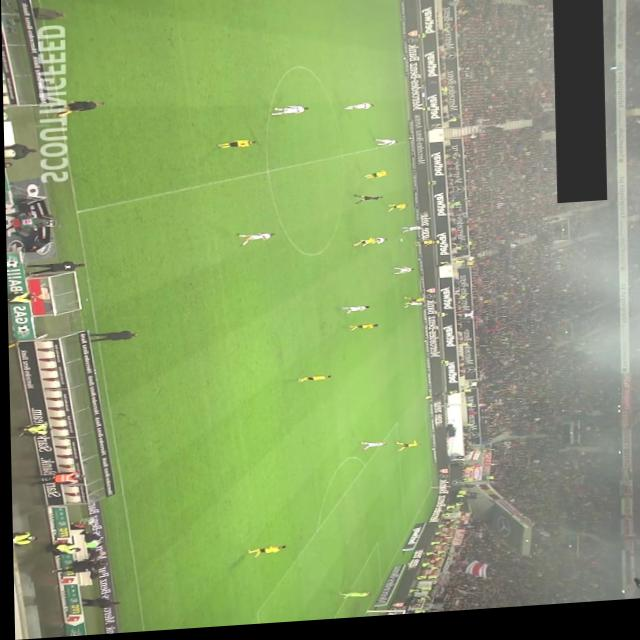goalkeeper: (335, 595, 369, 604)
player: (234, 235, 275, 250), (244, 548, 284, 561), (270, 108, 309, 120), (215, 142, 256, 152), (392, 445, 420, 457), (357, 444, 385, 456), (350, 242, 378, 252), (294, 379, 329, 387), (360, 242, 388, 252), (343, 107, 373, 116), (361, 175, 390, 184), (340, 310, 368, 319), (372, 142, 396, 152), (346, 329, 376, 336), (400, 300, 423, 309), (390, 272, 413, 281), (385, 209, 407, 218), (410, 245, 434, 253), (399, 231, 422, 239), (401, 306, 423, 313)
referee: (48, 100, 104, 119), (351, 198, 380, 209), (421, 399, 443, 407)
